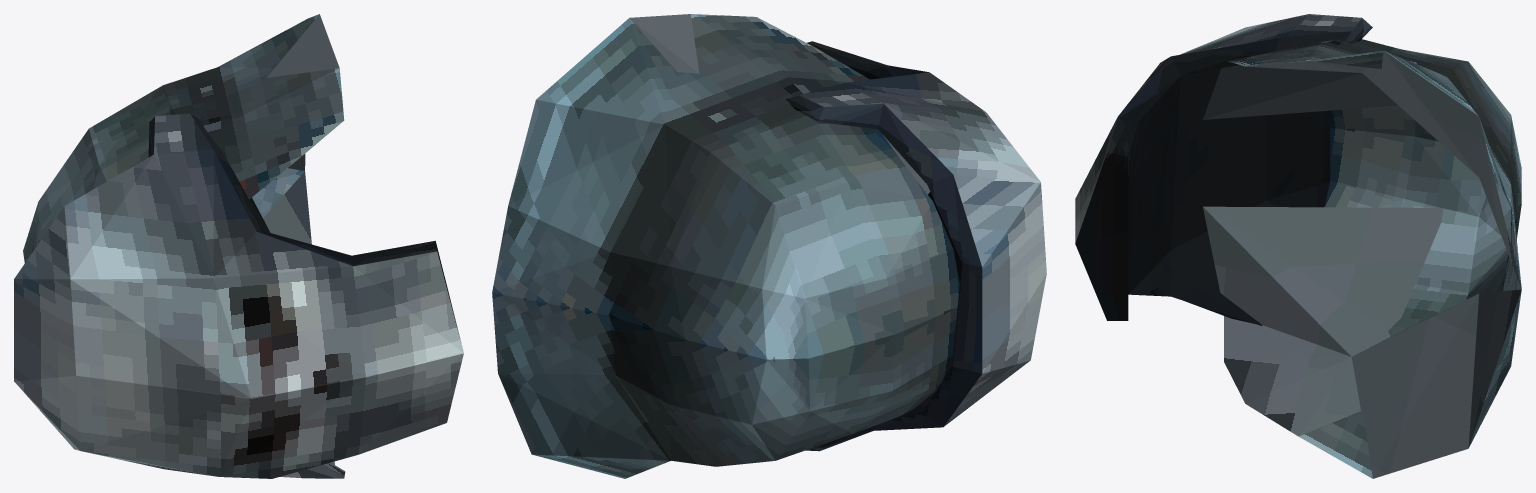
File: XAARMHELMET.obj
3 renders of one model, left to right at view 1: azimuth 30°, elevation 25°; view 2: azimuth 150°, elevation 25°; view 3: azimuth 270°, elevation 25°, orthographic. The views are drawn at different scales.
Parts seen in each view (by area): view 1: Node 0; view 2: Node 0; view 3: Node 0.
Part boxes in pixels (left/top/right/bottom): Node 0: left=14, top=14, right=463, bottom=478; Node 0: left=492, top=14, right=1046, bottom=478; Node 0: left=1075, top=14, right=1521, bottom=478.
Bounding box in the file's own units: 0.39 × 0.44 × 0.42.
1 material, 1 textured.
